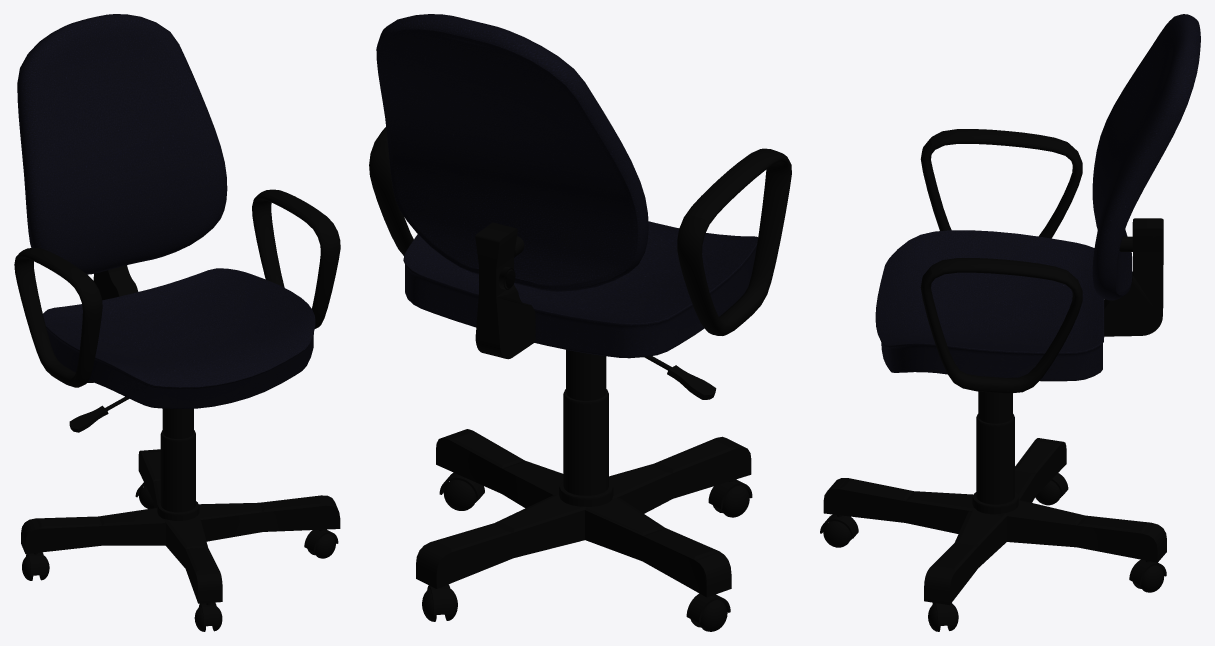
File: Chair 1.fbx
3 renders of one model, left to right at view 1: azimuth 30°, elevation 25°; view 2: azimuth 150°, elevation 25°; view 3: azimuth 270°, elevation 25°, orthographic. The views are drawn at different scales.
Visible parts, largest first — view 1: Chair 1; view 2: Chair 1; view 3: Chair 1.
Part boxes in pixels (x1,y1,x2,y2): Chair 1: (14,14,340,631); Chair 1: (369,14,791,631); Chair 1: (820,14,1200,631).
Size of the model in its own units: 61.83 by 107 by 68.57.
Materials: 2 (1 with a texture image).
